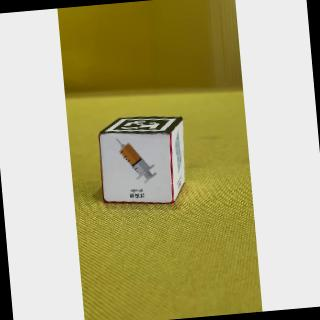Syringe: (100, 131, 178, 206)
